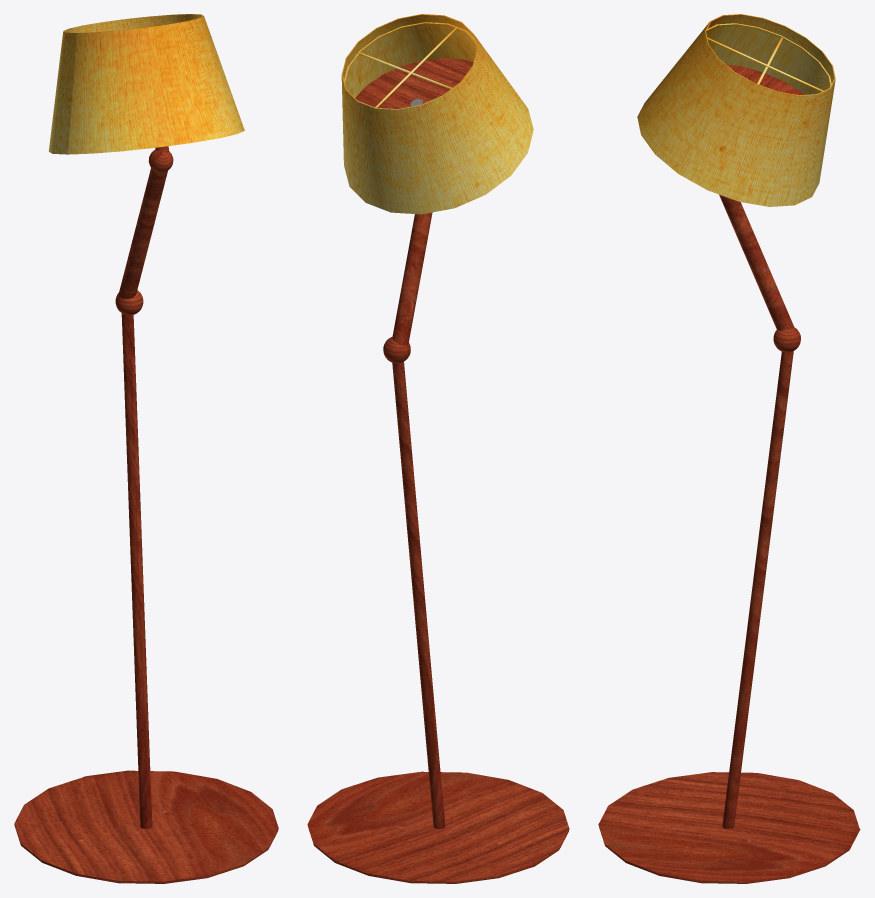
The model's file is Lampara.obj.
3 renders of one model, left to right at view 1: azimuth 30°, elevation 25°; view 2: azimuth 150°, elevation 25°; view 3: azimuth 270°, elevation 25°, orthographic.
Parts seen in each view (by area): view 1: Lampara:polySurface6polySurface4pCylinder3; view 2: Lampara:polySurface6polySurface4pCylinder3; view 3: Lampara:polySurface6polySurface4pCylinder3.
Part boxes in pixels (x1,y1,x2,y2): Lampara:polySurface6polySurface4pCylinder3: [14, 14, 278, 883]; Lampara:polySurface6polySurface4pCylinder3: [307, 14, 569, 883]; Lampara:polySurface6polySurface4pCylinder3: [598, 14, 860, 883].
Size of the model in its own units: 4.69 by 15.98 by 4.74.
